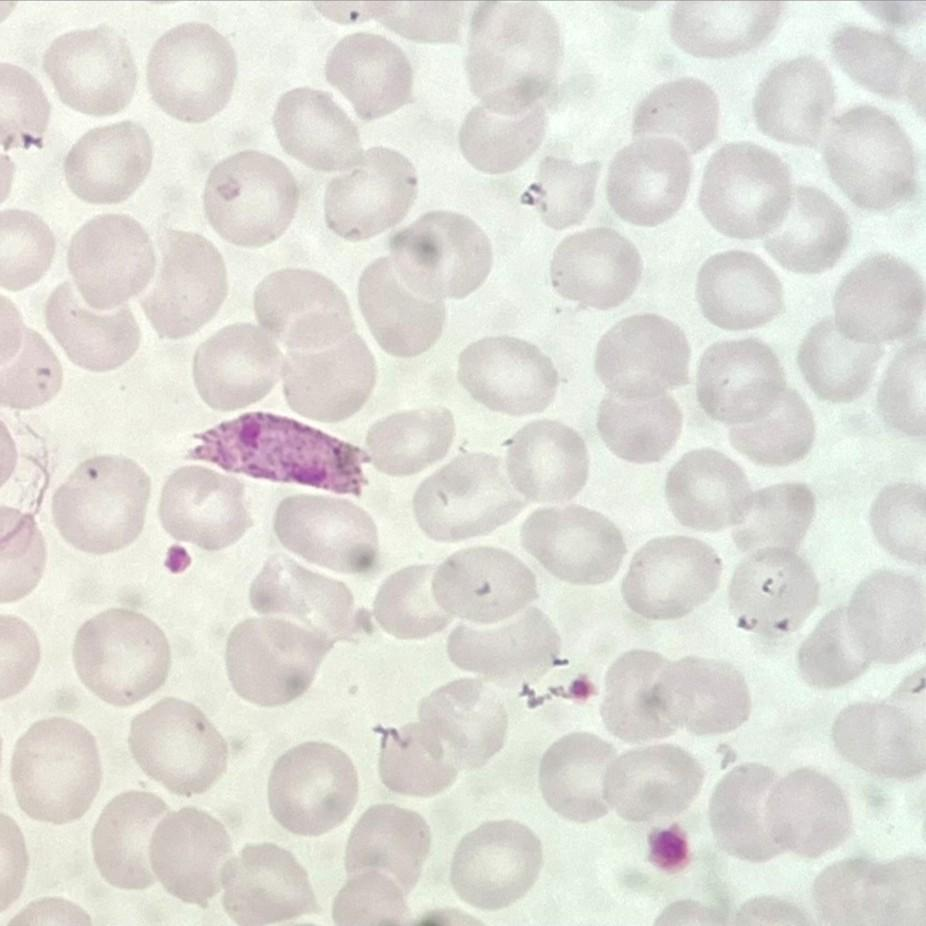Infected: (194, 411, 377, 502)
Uninfected: (250, 553, 368, 644), (226, 613, 337, 709), (462, 4, 560, 111), (410, 451, 525, 542), (51, 455, 151, 556), (125, 697, 225, 796), (277, 325, 377, 424), (819, 106, 914, 209), (71, 608, 170, 706), (355, 256, 450, 358), (9, 717, 100, 822), (139, 230, 227, 338), (44, 281, 144, 375), (65, 213, 159, 313), (202, 152, 298, 247), (270, 492, 379, 575), (444, 601, 557, 681), (750, 767, 847, 860), (146, 23, 238, 121), (620, 535, 722, 623), (827, 252, 921, 347), (598, 742, 703, 827), (643, 654, 748, 739), (143, 805, 233, 904), (834, 568, 924, 666), (265, 741, 359, 833), (397, 209, 493, 298), (431, 544, 536, 625), (699, 143, 790, 236), (414, 680, 509, 769), (518, 502, 622, 583), (449, 819, 542, 909), (592, 312, 690, 397), (90, 792, 173, 892), (253, 265, 354, 347), (157, 463, 250, 552), (43, 27, 135, 116), (322, 151, 415, 239), (598, 652, 688, 742), (604, 136, 695, 225), (725, 548, 816, 636), (694, 333, 781, 425), (456, 335, 556, 415), (272, 87, 364, 172), (191, 324, 280, 411), (324, 31, 413, 118), (64, 121, 153, 206), (536, 732, 620, 822), (341, 802, 428, 887), (754, 56, 837, 145), (548, 227, 638, 308), (219, 846, 312, 923), (503, 421, 590, 503), (457, 99, 548, 177), (630, 77, 720, 155), (592, 386, 683, 463), (694, 248, 781, 327), (724, 393, 814, 469), (664, 451, 749, 531), (828, 25, 915, 103), (797, 320, 879, 402), (768, 192, 848, 275), (727, 481, 814, 557), (363, 406, 454, 477), (370, 564, 451, 641), (670, 2, 779, 58), (798, 610, 876, 687), (374, 725, 457, 796), (524, 155, 600, 227)
